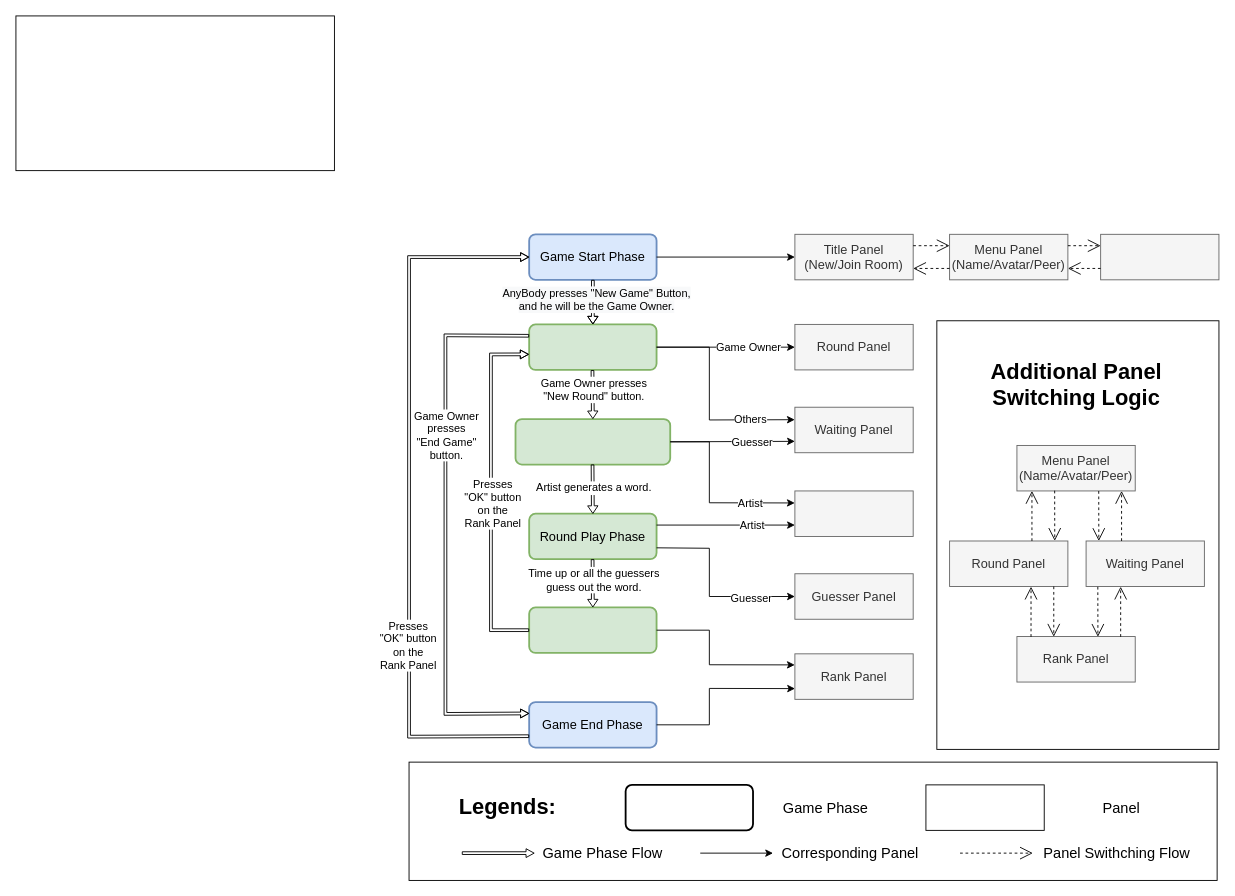
The diagram is 1235 pixels wide and 896 high, and some of its shapes have lost their labels. Each missing label, with the centre of its shape:
Artist Panel: [853,513]
Draw & Guess Main Flow Chart: [174,93]
Game Start Panel: [1159,256]
Round End Phase: [592,629]
Round Pick Word Phase: [592,441]
Round Start Phase: [592,346]
